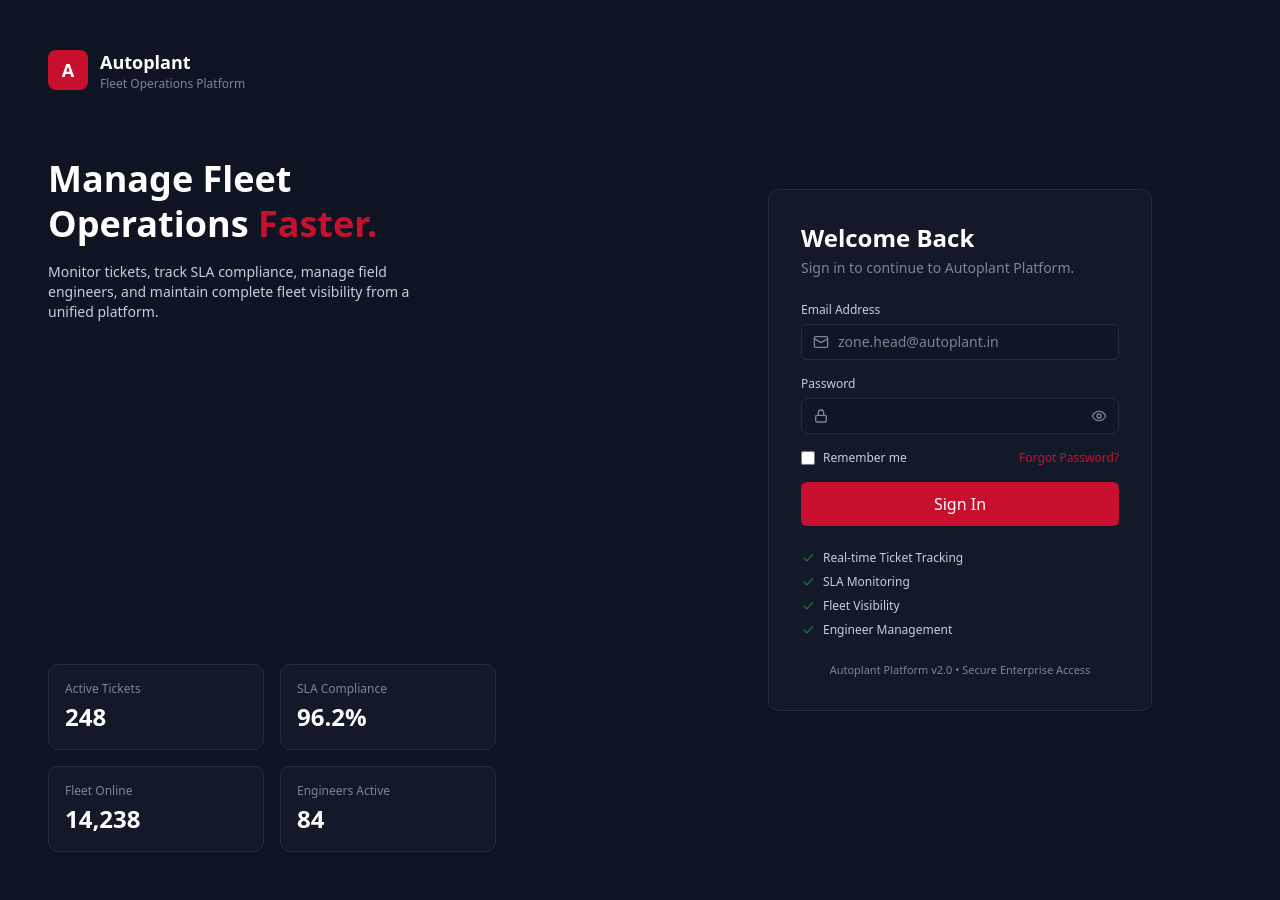
Test: Admin shell — login flow › shows an error and stays on the login page when credentials are rejected
Type "zm.north@fsm.test" into the field labelled "Email Address" at (960, 342), box [801,324,1119,360]
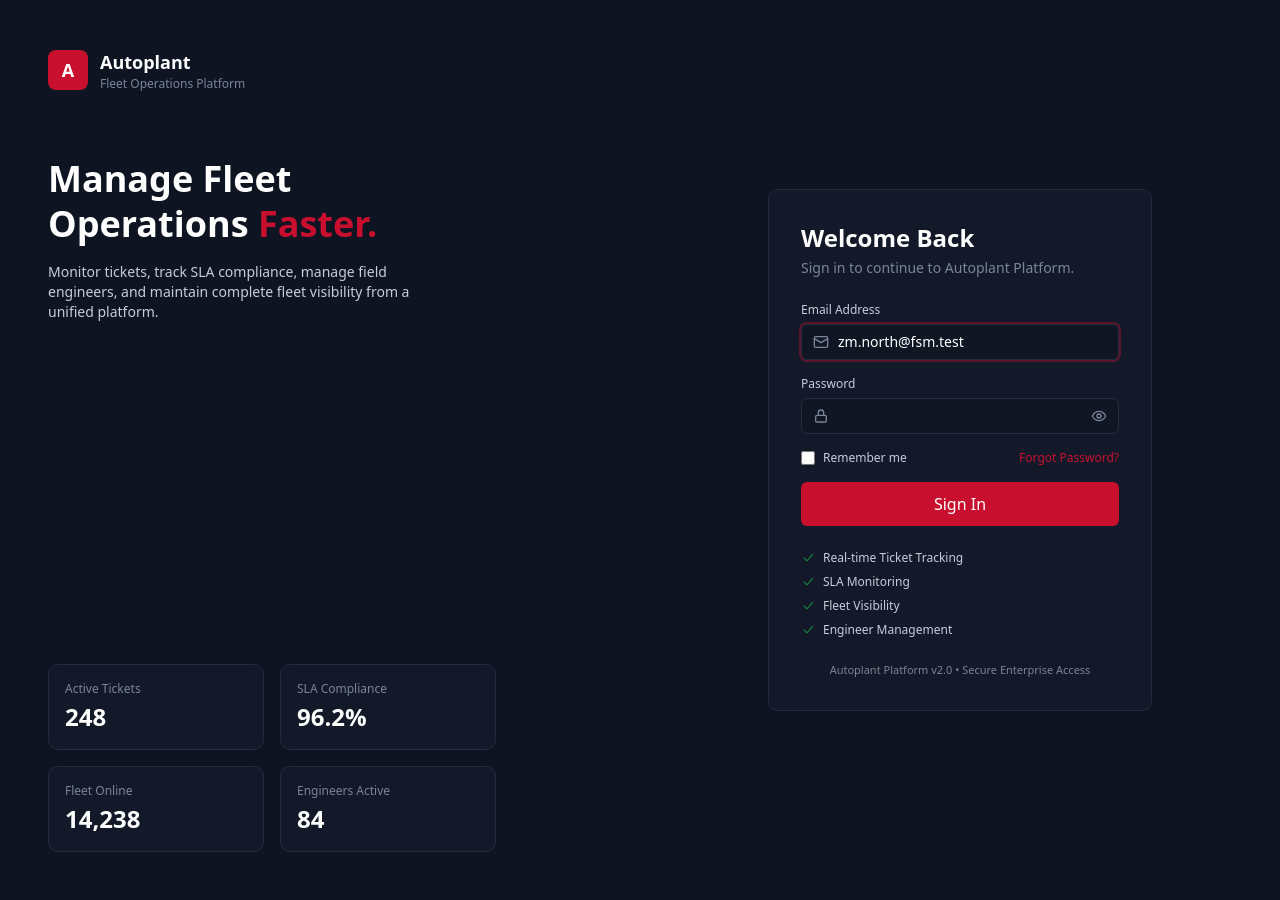
Type "wrong" into the password field labelled "Password" at (960, 416), box [801,398,1119,434]
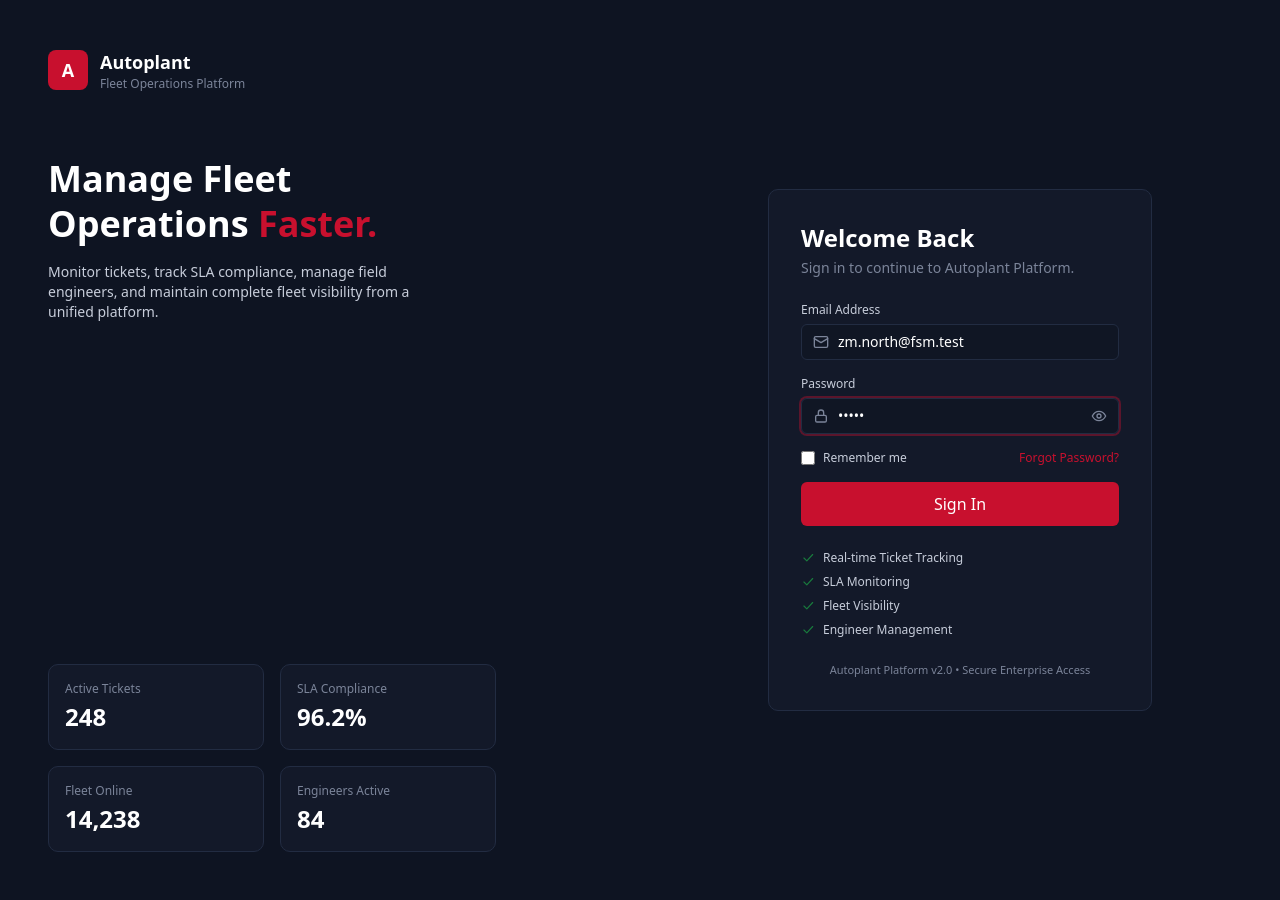
Click the button "Sign In" at (960, 504), box [801,482,1119,526]
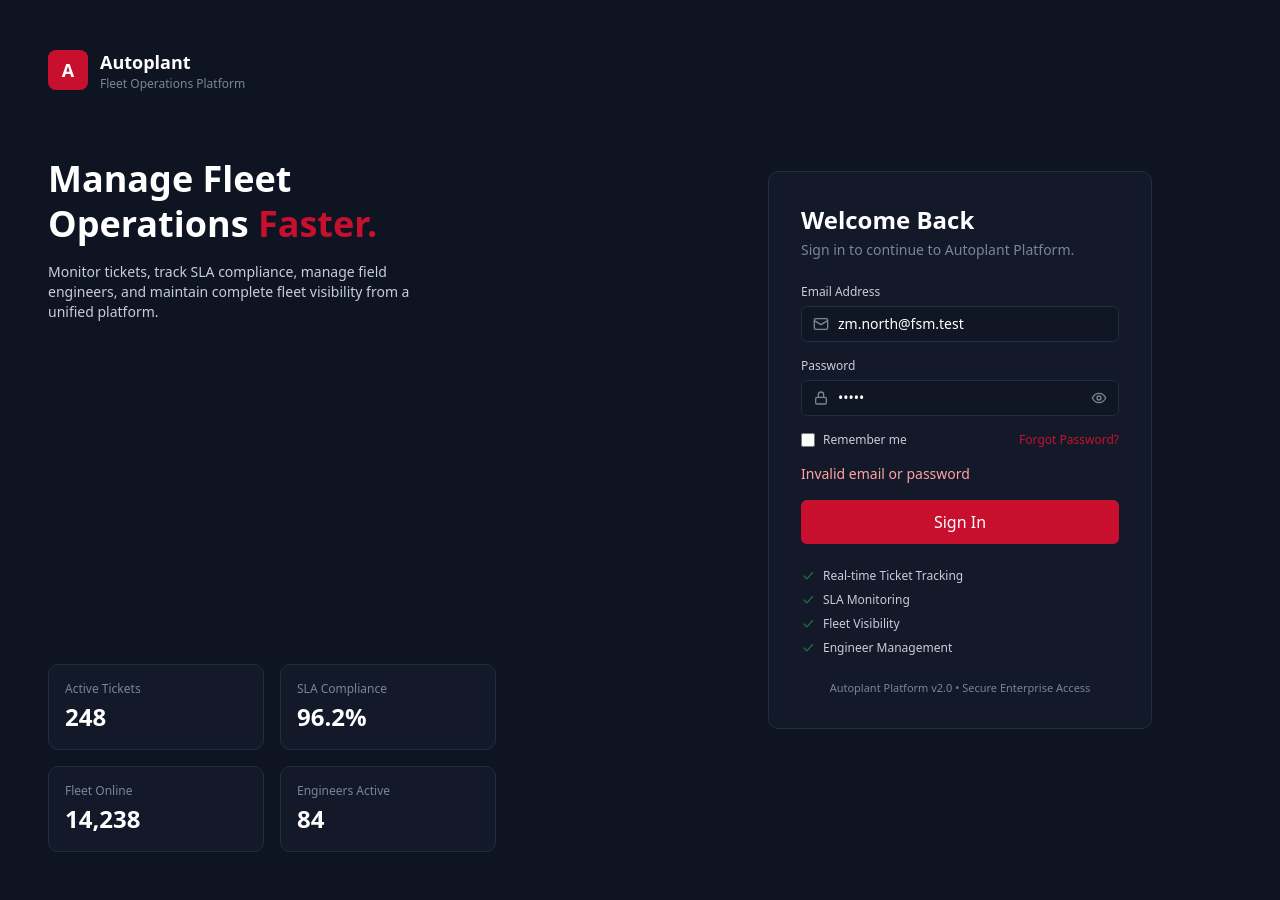
Expected: the heading "Welcome Back" is shown, [801,203,974,236]
Result: the message reads "Invalid email or password" at [801,464,970,483]
